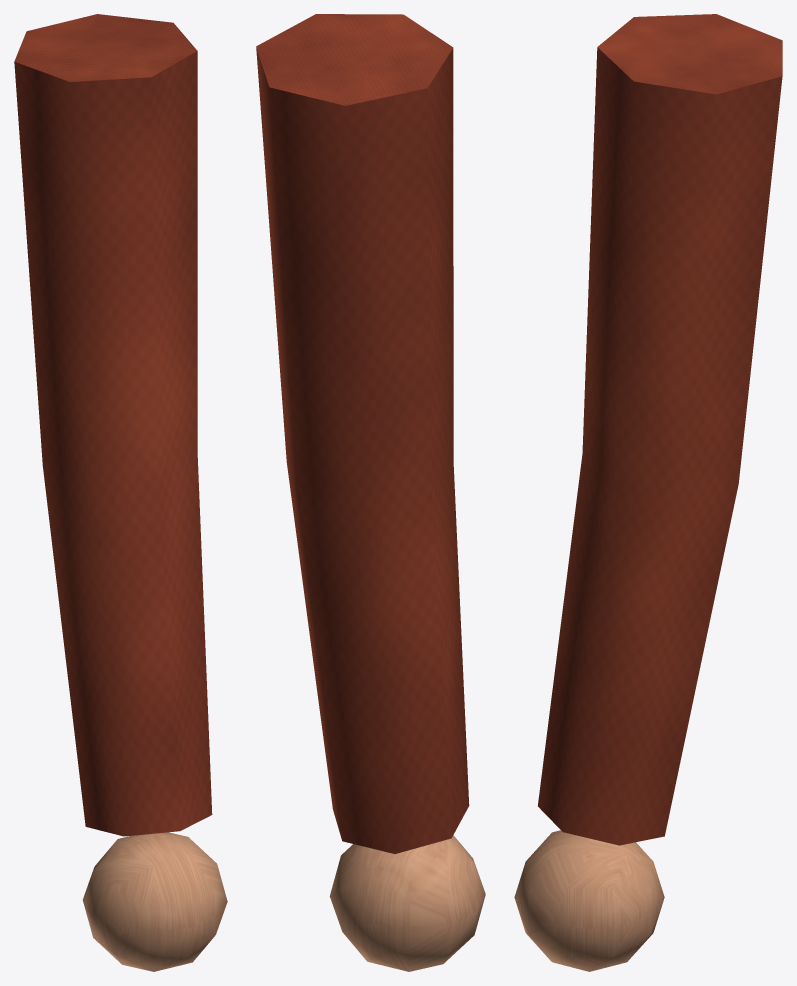
File: survivor_arm.glb
3 renders of one model, left to right at view 1: azimuth 30°, elevation 25°; view 2: azimuth 150°, elevation 25°; view 3: azimuth 270°, elevation 25°, orthographic. The views are drawn at different scales.
Parts seen in each view (by area): view 1: survivor_arm; view 2: survivor_arm; view 3: survivor_arm.
Part boxes in pixels (<box>): survivor_arm: <box>14,14,227,971</box>; survivor_arm: <box>256,14,485,971</box>; survivor_arm: <box>514,14,782,971</box>.
Size of the model in its own units: 0.1267 by 0.6743 by 0.1784.
2 materials, 2 textured.
